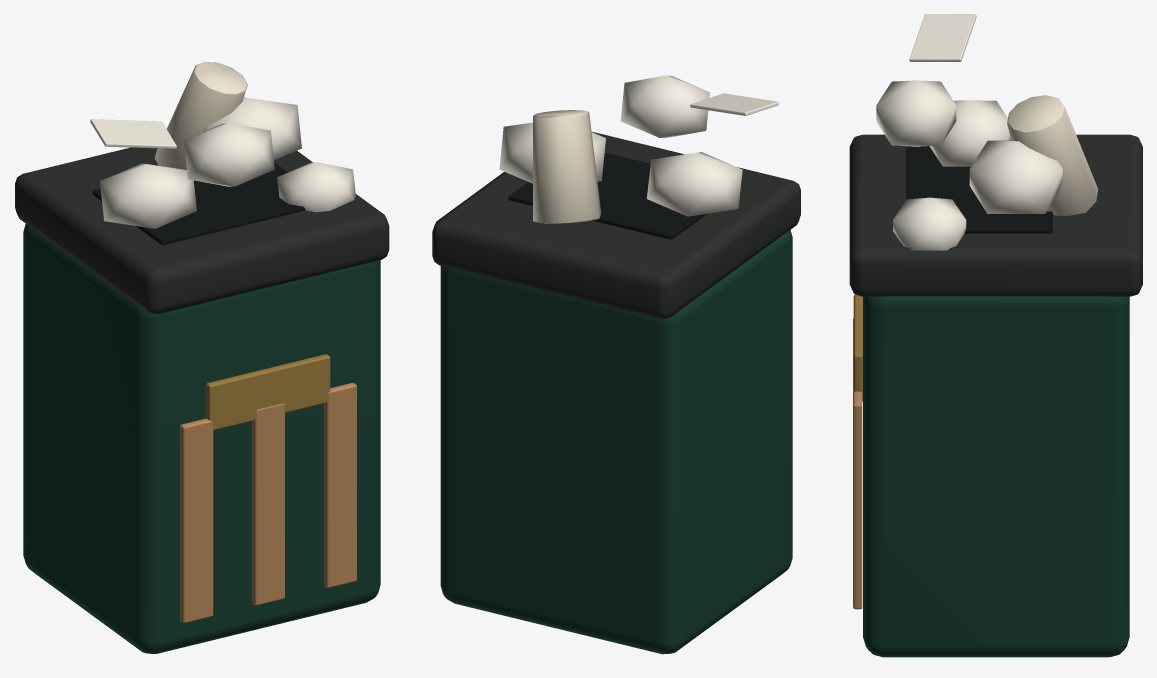
The model's file is pine_hills_public_waste_bin_overflow_v1.glb.
3 renders of one model, left to right at view 1: azimuth 30°, elevation 25°; view 2: azimuth 150°, elevation 25°; view 3: azimuth 270°, elevation 25°, orthographic. The views are drawn at different scales.
Visible parts, largest first — view 1: MESH_WasteBinBody, MESH_WasteBinTopRim, MESH_WasteBinOakSlat_01, MESH_WasteBinOakSlat_03, MESH_WasteBinOakSlat_02, MESH_WasteBinFrontPlaque, MESH_WasteBinOpening, MESH_WasteOverflowPaper_01, MESH_WasteOverflowPaper_03, MESH_WasteOverflowCup, MESH_WasteOverflowPaper_04, MESH_WasteOverflowPaper_02 (+1 smaller); view 2: MESH_WasteBinBody, MESH_WasteBinTopRim, MESH_WasteOverflowCup, MESH_WasteBinOpening, MESH_WasteOverflowPaper_01, MESH_WasteOverflowPaper_03, MESH_WasteOverflowPaper_02, MESH_WasteOverflowReceipt; view 3: MESH_WasteBinBody, MESH_WasteBinTopRim, MESH_WasteOverflowPaper_02, MESH_WasteOverflowCup, MESH_WasteBinOpening, MESH_WasteOverflowPaper_03, MESH_WasteOverflowPaper_01, MESH_WasteOverflowPaper_04, MESH_WasteOverflowReceipt, MESH_WasteBinOakSlat_03, MESH_WasteBinFrontPlaque.
Boxes of the visible parts, x1,y1,x2,y2 form: MESH_WasteBinBody: (23, 224, 380, 653); MESH_WasteBinTopRim: (15, 147, 389, 313); MESH_WasteBinOakSlat_01: (180, 418, 213, 622); MESH_WasteBinOakSlat_03: (324, 383, 356, 587); MESH_WasteBinOakSlat_02: (252, 403, 284, 605); MESH_WasteBinFrontPlaque: (206, 354, 330, 430); MESH_WasteBinOpening: (92, 162, 305, 245); MESH_WasteOverflowPaper_01: (100, 163, 196, 228); MESH_WasteOverflowPaper_03: (184, 123, 274, 186); MESH_WasteOverflowCup: (154, 62, 247, 169); MESH_WasteOverflowPaper_04: (277, 162, 355, 212); MESH_WasteOverflowPaper_02: (202, 97, 301, 159); MESH_WasteBinBody: (440, 230, 792, 654); MESH_WasteBinTopRim: (432, 131, 800, 318); MESH_WasteOverflowCup: (533, 110, 601, 223); MESH_WasteBinOpening: (508, 152, 706, 239); MESH_WasteOverflowPaper_01: (647, 152, 742, 216); MESH_WasteOverflowPaper_03: (620, 75, 709, 138); MESH_WasteOverflowPaper_02: (499, 122, 605, 183); MESH_WasteOverflowReceipt: (690, 93, 778, 115); MESH_WasteBinBody: (863, 296, 1129, 657); MESH_WasteBinTopRim: (849, 134, 1142, 296); MESH_WasteOverflowPaper_02: (969, 140, 1062, 213); MESH_WasteOverflowCup: (1007, 95, 1098, 215); MESH_WasteBinOpening: (906, 146, 1052, 233); MESH_WasteOverflowPaper_03: (876, 80, 956, 146); MESH_WasteOverflowPaper_01: (929, 100, 1011, 166); MESH_WasteOverflowPaper_04: (893, 197, 966, 250); MESH_WasteOverflowReceipt: (909, 14, 976, 61); MESH_WasteBinOakSlat_03: (853, 391, 862, 609); MESH_WasteBinFrontPlaque: (853, 294, 862, 401).
Bounding box in the file's own units: 0.4664 × 0.8722 × 0.45.
